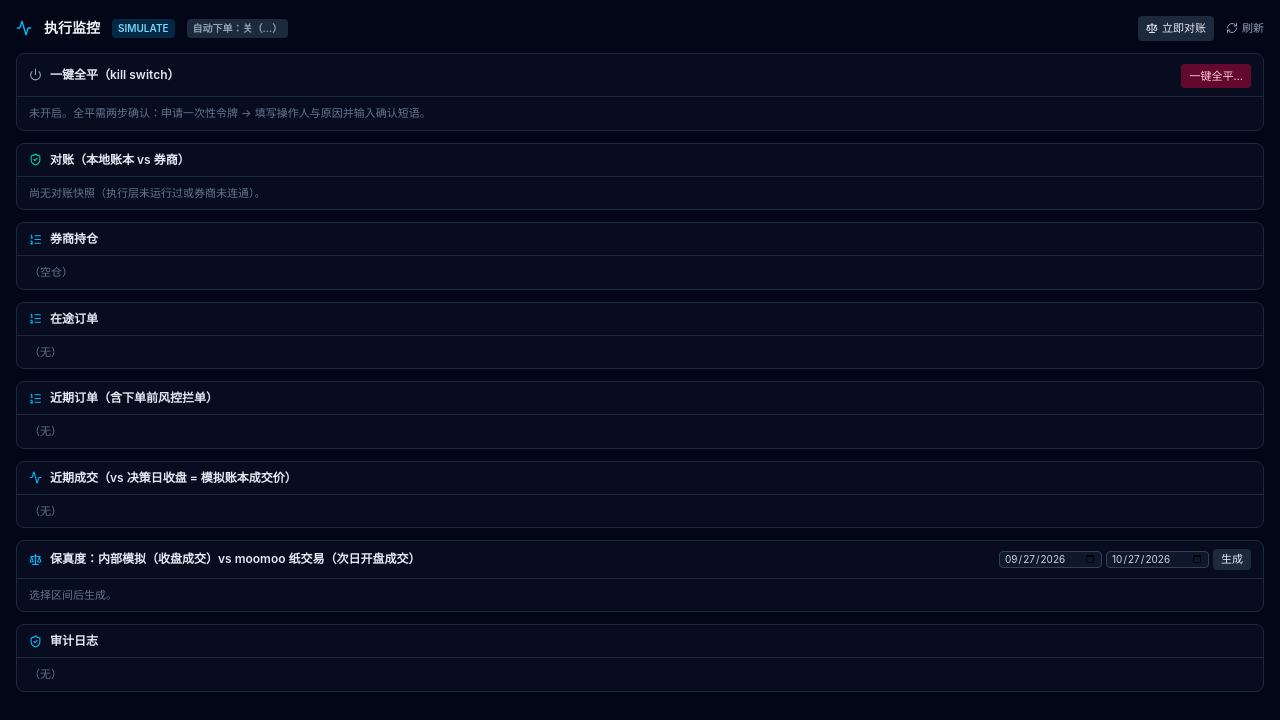
ExecutionPanel — kill switch is two-step › a broker outage is surfaced, not hidden
Click the button "一键全平…". click: coordinates (1216, 76)
box: [1182, 64, 1251, 88]
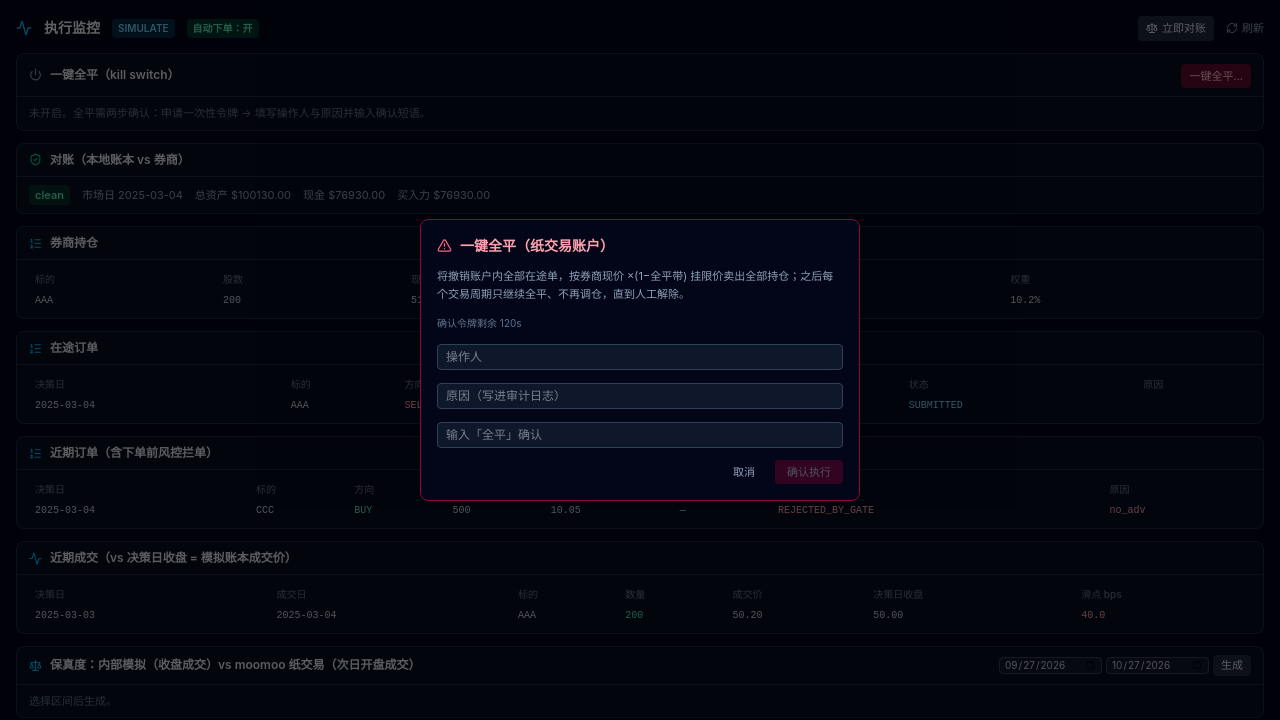
expect the text with test id "token-state" shows "剩余": met, box [437, 317, 522, 329]
Type "kevin" into the field labelled "操作人". click: coordinates (640, 357)
box: [437, 344, 843, 370]
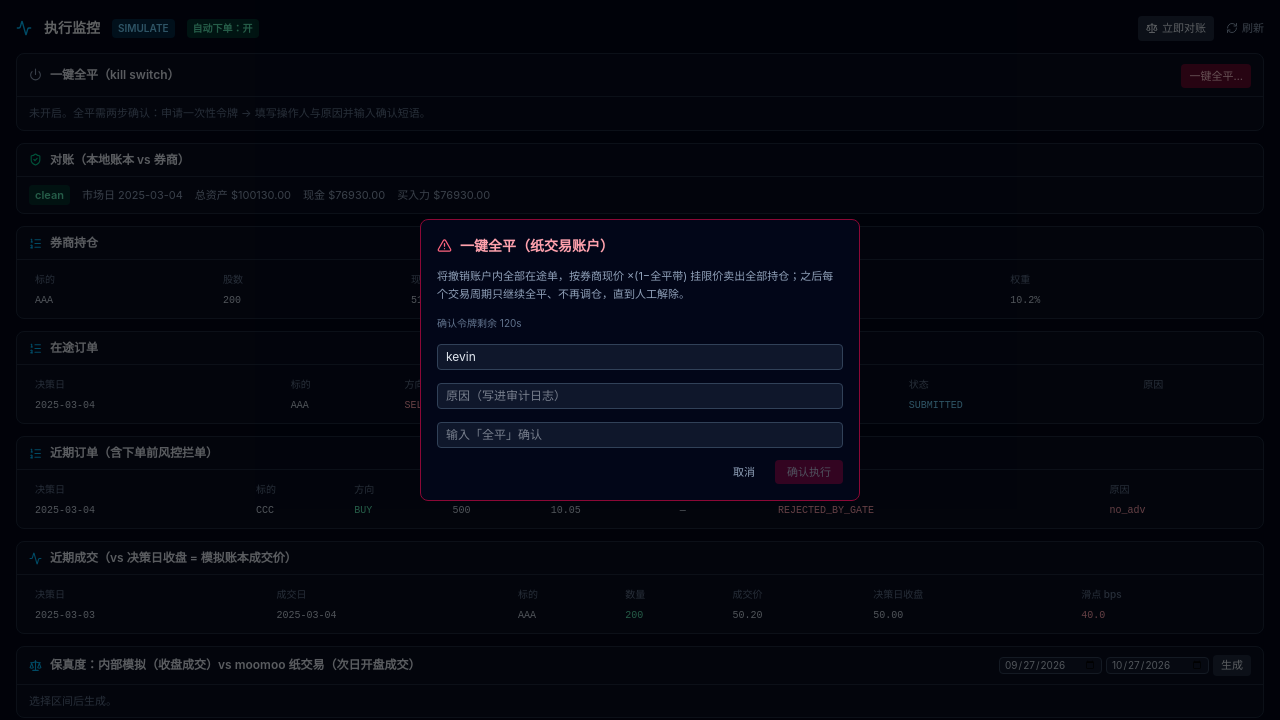
Type "panic" into the field labelled "原因". click: coordinates (640, 396)
box: [437, 383, 843, 409]
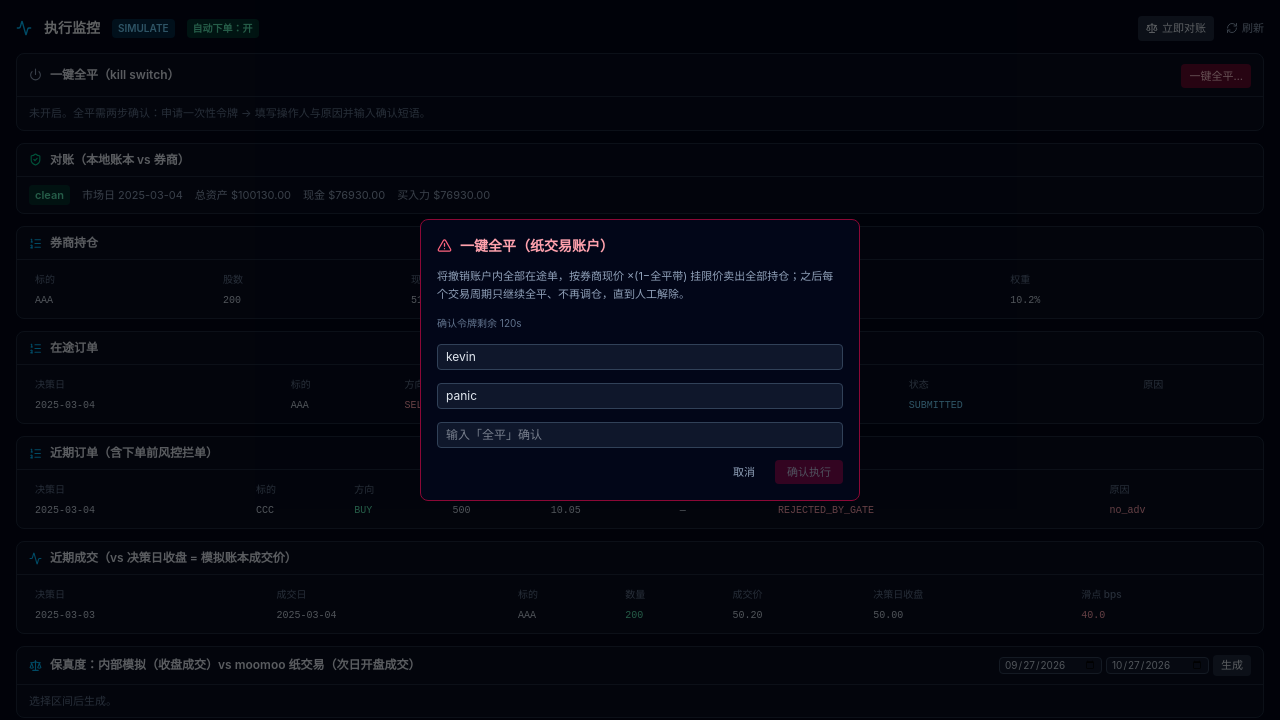
Type "全平" into the field named "确认短语". click: coordinates (640, 435)
box: [437, 422, 843, 448]
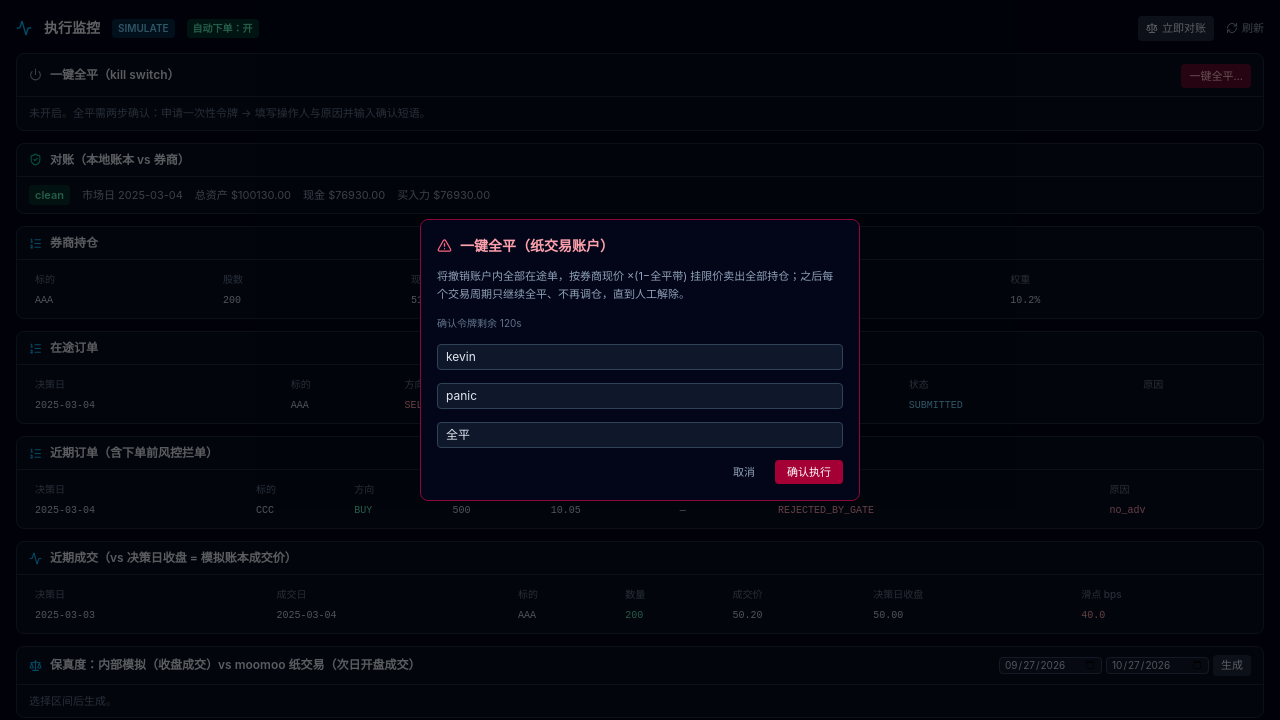
Click the button "确认执行". click: coordinates (809, 472)
box: [775, 460, 843, 484]
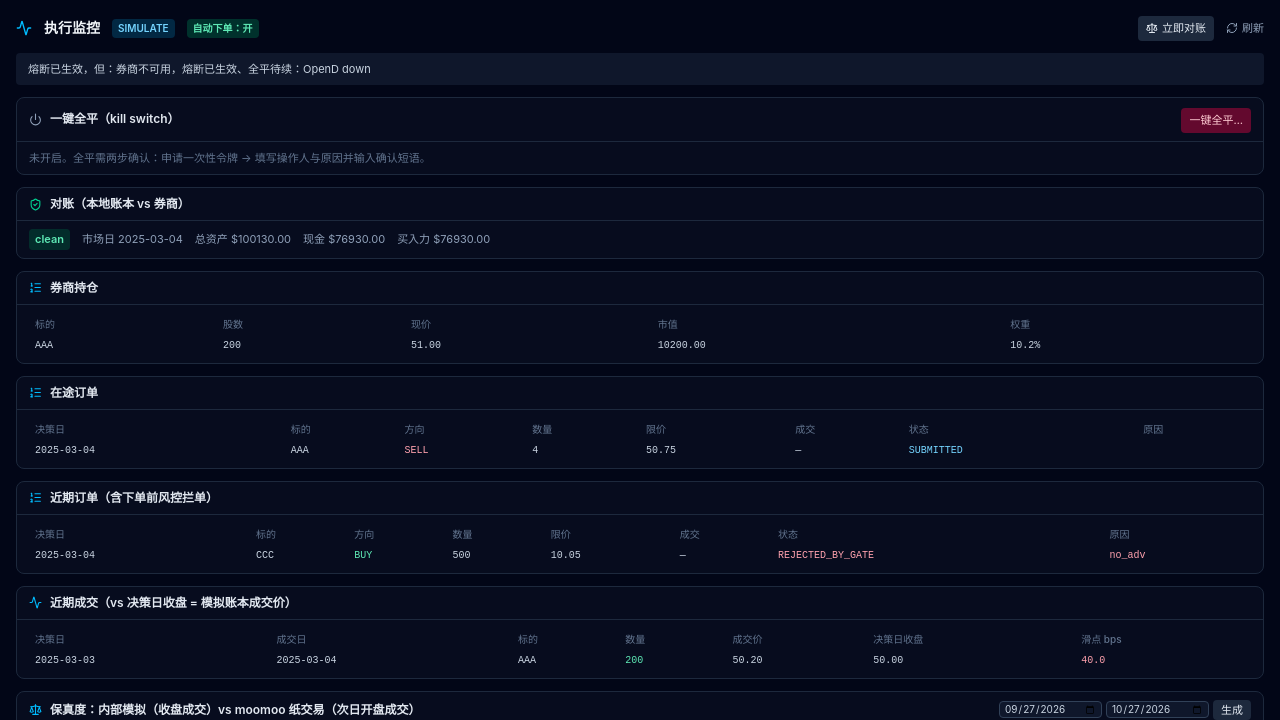
expect the text "熔断已生效，但：券商不可用，熔断已生效、全平待续：OpenD down" is shown: met, box [16, 52, 1264, 85]
